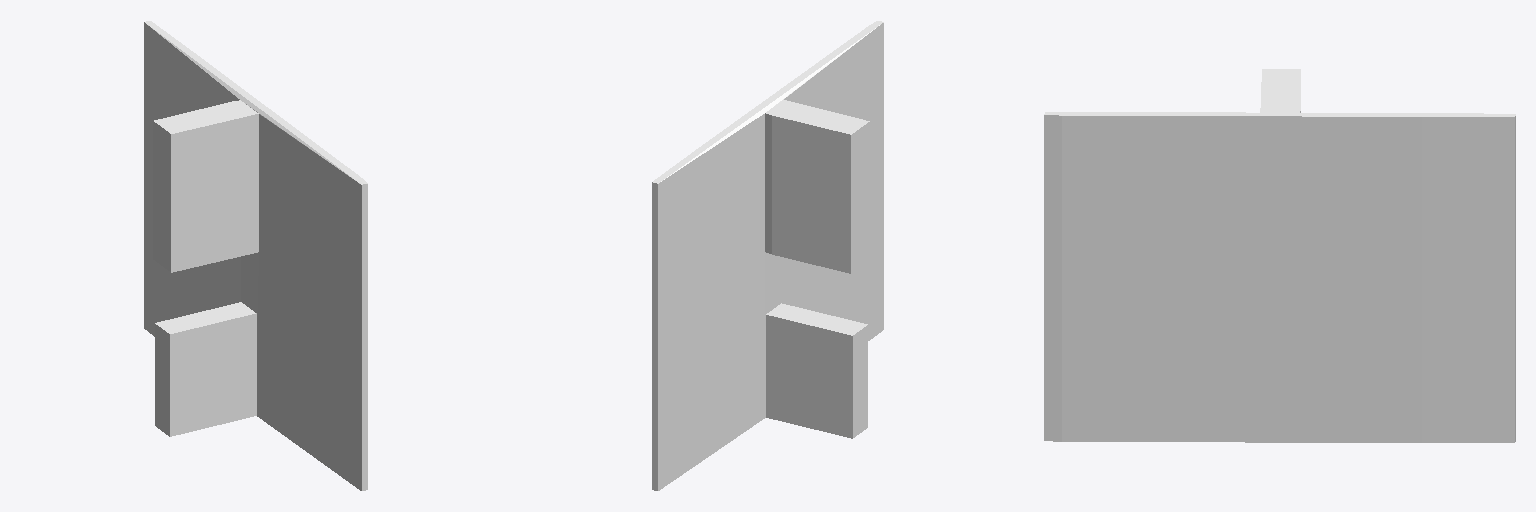
robot.urdf — tight_env:
<?xml version="1.0" ?>
<robot name="tight_env">
    <link name="tight_env-acd" type="static">
        <contact>
            <lateral_friction value="100000.0"/>
            <rolling_friction value="0.0"/>
        </contact>
        <inertial>
            <mass value="0"/>
            <inertia ixx="0" ixy="0" ixz="0" iyy="0" iyz="0" izz="0"/>
        </inertial>


        <visual>
            <geometry>
                <mesh filename="tight_env-acd.obj"/>
            </geometry>
            <material name="white">
                <color rgba="1 1 1 1"/>
            </material>
        </visual>

        <collision>
            <geometry>
                <mesh filename="tight_env-acd.obj"/>
            </geometry>
        </collision>
    </link>
</robot>

--- What the picture shows (computed from the rendered views, not written in the file) ---
3 views of the same robot in one strip: view 1: azimuth 30°, elevation 25°; view 2: azimuth 150°, elevation 25°; view 3: azimuth 270°, elevation 25° (orthographic).
Model tight_env with 1 links and 0 joints (none), rooted at tight_env-acd, posed all joints at 0.
Links seen in each view (by area): view 1: tight_env-acd; view 2: tight_env-acd; view 3: tight_env-acd.
Boxes of the visible links, x1,y1,x2,y2 form: tight_env-acd: [144, 21, 367, 490]; tight_env-acd: [652, 21, 883, 490]; tight_env-acd: [1044, 69, 1515, 442].
Bounding box of the posed robot: 0.385 × 1.51 × 1.15 m (x, y, z).
1 mesh visuals loaded from 1 distinct referenced files (1 OBJ).